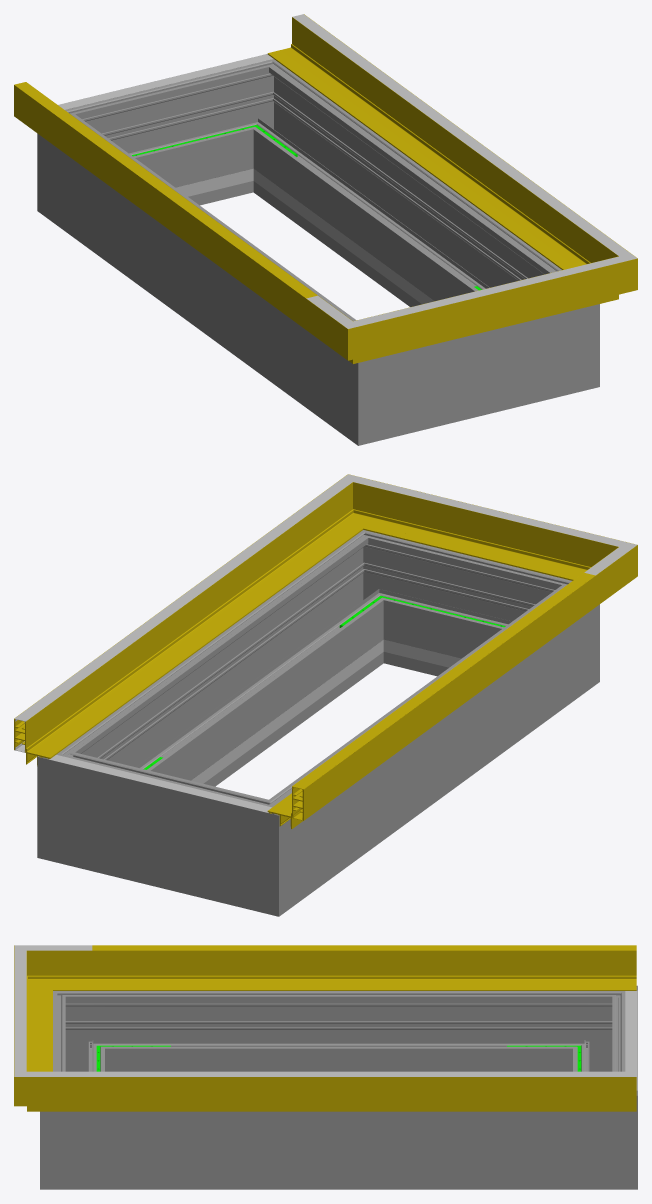
3 views of the same model, one above another, from view 1: azimuth 30°, elevation 25°; view 2: azimuth 150°, elevation 25°; view 3: azimuth 270°, elevation 25° (orthographic). The views are drawn at different scales.
Parts seen in each view (by area): view 1: 3DGeom-13, 3DGeom-28, 3DGeom-90, 3DGeom-30, 3DGeom-82, 3DGeom-6, 3DGeom-20, 3DGeom-22, 3DGeom-14, 3DGeom-88, 3DGeom-32, 3DGeom-84 (+9 smaller); view 2: 3DGeom-13, 3DGeom-28, 3DGeom-90, 3DGeom-32, 3DGeom-30, 3DGeom-82, 3DGeom-20, 3DGeom-22, 3DGeom-14, 3DGeom-88, 3DGeom-6, 3DGeom-92 (+9 smaller); view 3: 3DGeom-28, 3DGeom-13, 3DGeom-82, 3DGeom-90, 3DGeom-22, 3DGeom-14, 3DGeom-32, 3DGeom-6, 3DGeom-96, 3DGeom-103, 3DGeom-84, 3DGeom-92 (+7 smaller).
Part boxes in pixels (<box>): 3DGeom-13: <box>260,84,545,306</box>; 3DGeom-28: <box>79,135,339,414</box>; 3DGeom-90: <box>267,14,595,267</box>; 3DGeom-30: <box>110,71,241,205</box>; 3DGeom-82: <box>14,82,317,329</box>; 3DGeom-6: <box>316,308,430,445</box>; 3DGeom-20: <box>430,322,527,427</box>; 3DGeom-22: <box>207,54,308,196</box>; 3DGeom-14: <box>527,258,599,404</box>; 3DGeom-88: <box>413,272,565,349</box>; 3DGeom-32: <box>37,94,144,241</box>; 3DGeom-84: <box>306,296,420,363</box>; 3DGeom-13: <box>91,555,376,786</box>; 3DGeom-28: <box>297,605,557,885</box>; 3DGeom-90: <box>14,505,342,765</box>; 3DGeom-32: <box>206,779,320,916</box>; 3DGeom-30: <box>110,764,219,898</box>; 3DGeom-82: <box>267,573,595,828</box>; 3DGeom-20: <box>396,544,520,676</box>; 3DGeom-22: <box>37,729,123,875</box>; 3DGeom-14: <box>328,530,423,667</box>; 3DGeom-88: <box>399,492,563,573</box>; 3DGeom-6: <box>492,568,599,712</box>; 3DGeom-92: <box>308,474,420,544</box>; 3DGeom-28: <box>118,991,559,1071</box>; 3DGeom-13: <box>118,1111,559,1189</box>; 3DGeom-82: <box>92,950,636,990</box>; 3DGeom-90: <box>92,1077,636,1111</box>; 3DGeom-22: <box>560,1062,637,1189</box>; 3DGeom-14: <box>40,1062,117,1189</box>; 3DGeom-32: <box>560,985,637,1071</box>; 3DGeom-6: <box>53,991,117,1071</box>; 3DGeom-96: <box>92,1071,636,1076</box>; 3DGeom-103: <box>92,945,636,950</box>; 3DGeom-84: <box>14,945,91,1006</box>; 3DGeom-92: <box>14,1044,91,1111</box>.
Bounding box in the file's own units: 0.6096 × 0.2669 × 1.22.
